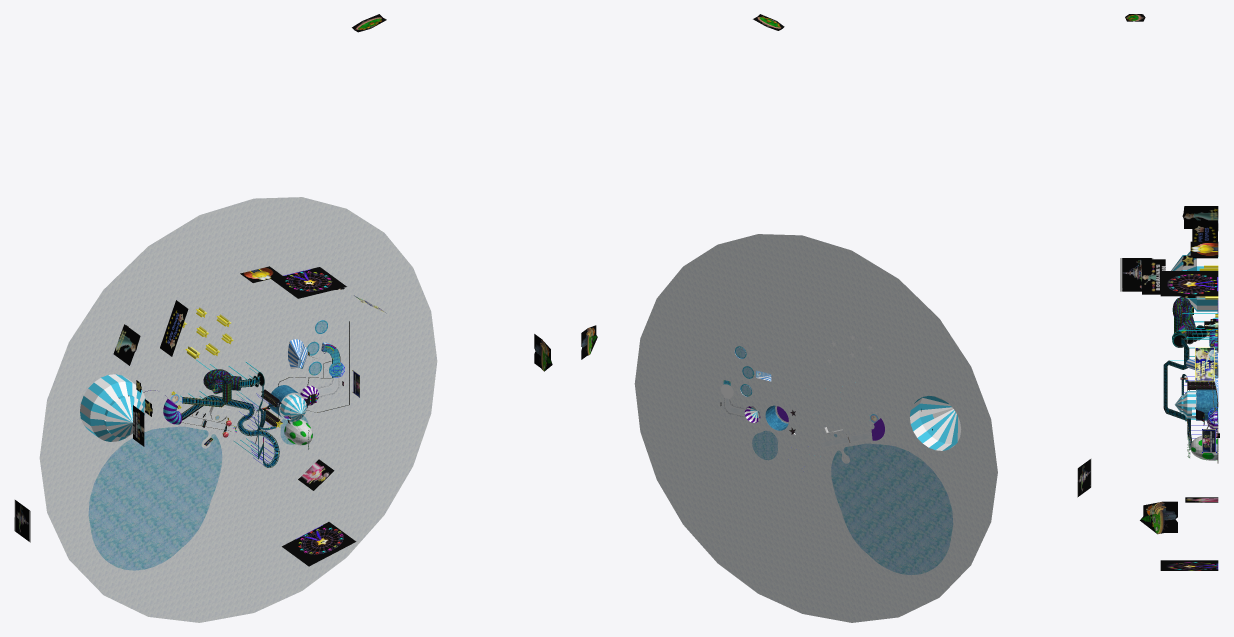
3 views of the same model, side by side, from view 1: azimuth 30°, elevation 25°; view 2: azimuth 150°, elevation 25°; view 3: azimuth 270°, elevation 25° (orthographic). The views are drawn at different scales.
Visible parts, largest first — view 1: model_SKP__snow.003, model_SKP__ice.003, model_SKP__ferris_wheel1.001, model_SKP__Default_Material.001, model_SKP__rosalina_tent_colour.001, model_SKP__rail.001, model_SKP__rosalina_tunnel.001, model_SKP__luma_star_games.001; view 2: model_SKP__snow.003, model_SKP__ice.003, model_SKP__Default_Material.001, model_SKP__rosalina_tent_colour.001; view 3: model_SKP__ferris_wheel1.001, model_SKP__planet1.001, model_SKP__Default_Material.001, model_SKP__rosalina_tent_colour.001, model_SKP__comet_observatory.001, model_SKP__Rosalina_Funpark.001, model_SKP__rosalinas_star_park.001, model_SKP__rosalina_tunnel.001, model_SKP__amusement_park.001, model_SKP__luma_star_games.001, model_SKP__rosalina_rail.001, model_SKP__ice_wall.001 (+11 smaller).
Part boxes in pixels (x1=…): model_SKP__snow.003: x1=39, y1=197, x2=437, y2=622; model_SKP__ice.003: x1=88, y1=321, x2=326, y2=570; model_SKP__ferris_wheel1.001: x1=271, y1=267, x2=356, y2=566; model_SKP__Default_Material.001: x1=80, y1=339, x2=318, y2=441; model_SKP__rosalina_tent_colour.001: x1=80, y1=374, x2=306, y2=441; model_SKP__rail.001: x1=181, y1=395, x2=279, y2=467; model_SKP__rosalina_tunnel.001: x1=203, y1=369, x2=241, y2=401; model_SKP__luma_star_games.001: x1=160, y1=300, x2=188, y2=356; model_SKP__snow.003: x1=634, y1=234, x2=997, y2=622; model_SKP__ice.003: x1=736, y1=347, x2=953, y2=575; model_SKP__Default_Material.001: x1=721, y1=335, x2=961, y2=450; model_SKP__rosalina_tent_colour.001: x1=750, y1=396, x2=957, y2=450; model_SKP__ferris_wheel1.001: x1=1160, y1=271, x2=1218, y2=570; model_SKP__planet1.001: x1=1140, y1=501, x2=1177, y2=534; model_SKP__Default_Material.001: x1=1171, y1=251, x2=1218, y2=431; model_SKP__rosalina_tent_colour.001: x1=1171, y1=251, x2=1218, y2=418; model_SKP__comet_observatory.001: x1=1120, y1=258, x2=1153, y2=291; model_SKP__Rosalina_Funpark.001: x1=1142, y1=259, x2=1165, y2=294; model_SKP__rosalinas_star_park.001: x1=1182, y1=206, x2=1218, y2=328; model_SKP__rosalina_tunnel.001: x1=1172, y1=296, x2=1195, y2=336; model_SKP__amusement_park.001: x1=1195, y1=348, x2=1213, y2=380; model_SKP__luma_star_games.001: x1=1192, y1=220, x2=1217, y2=258; model_SKP__rosalina_rail.001: x1=1163, y1=298, x2=1210, y2=419; model_SKP__ice_wall.001: x1=1196, y1=389, x2=1217, y2=420.
Bounding box in the file's own units: 411546 × 446324 × 63768.
79 materials, 79 textured.
